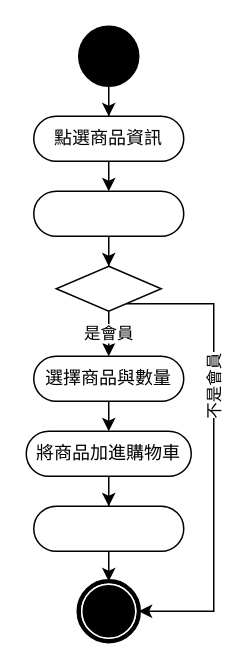
Image size: 252x668. Some labels were removed from this diagram. Each missing label, with the box of its shape:
庫存更新: (32, 190, 184, 236)
系統儲存: (32, 505, 184, 551)
